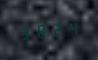eight: (33, 21, 47, 40)
four: (63, 18, 77, 37)
three: (18, 22, 32, 41)
two: (48, 20, 62, 38)
